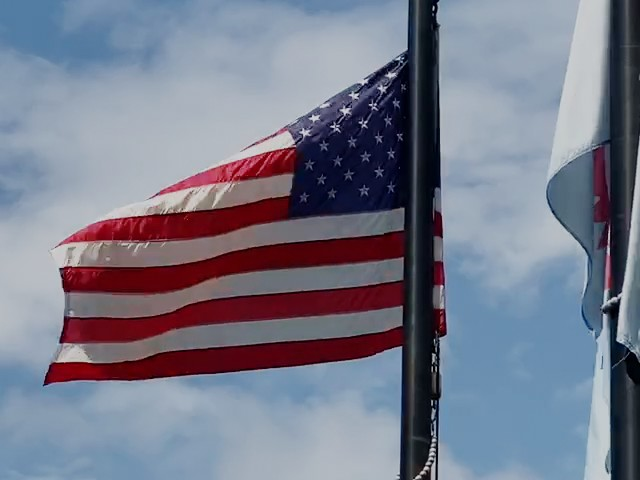America flag: (43, 47, 410, 390)
